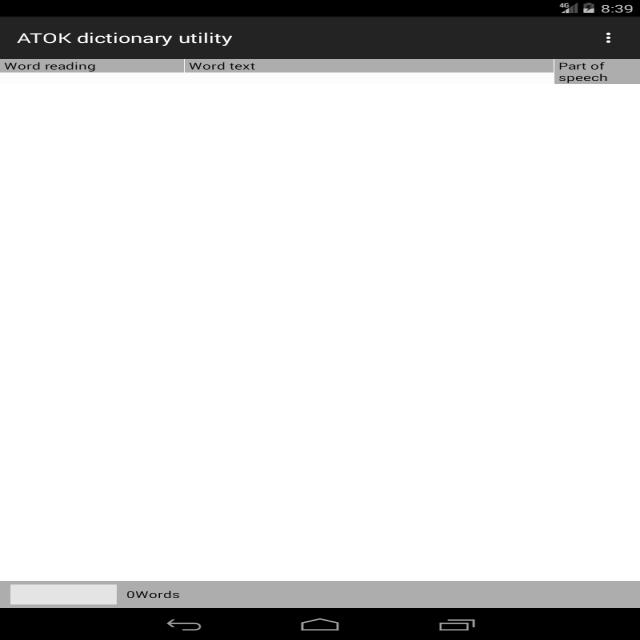ImageButton: (597, 26, 623, 47)
TextView: (12, 28, 242, 50), (4, 56, 107, 78), (556, 56, 616, 84), (184, 58, 266, 74), (125, 584, 190, 600)
